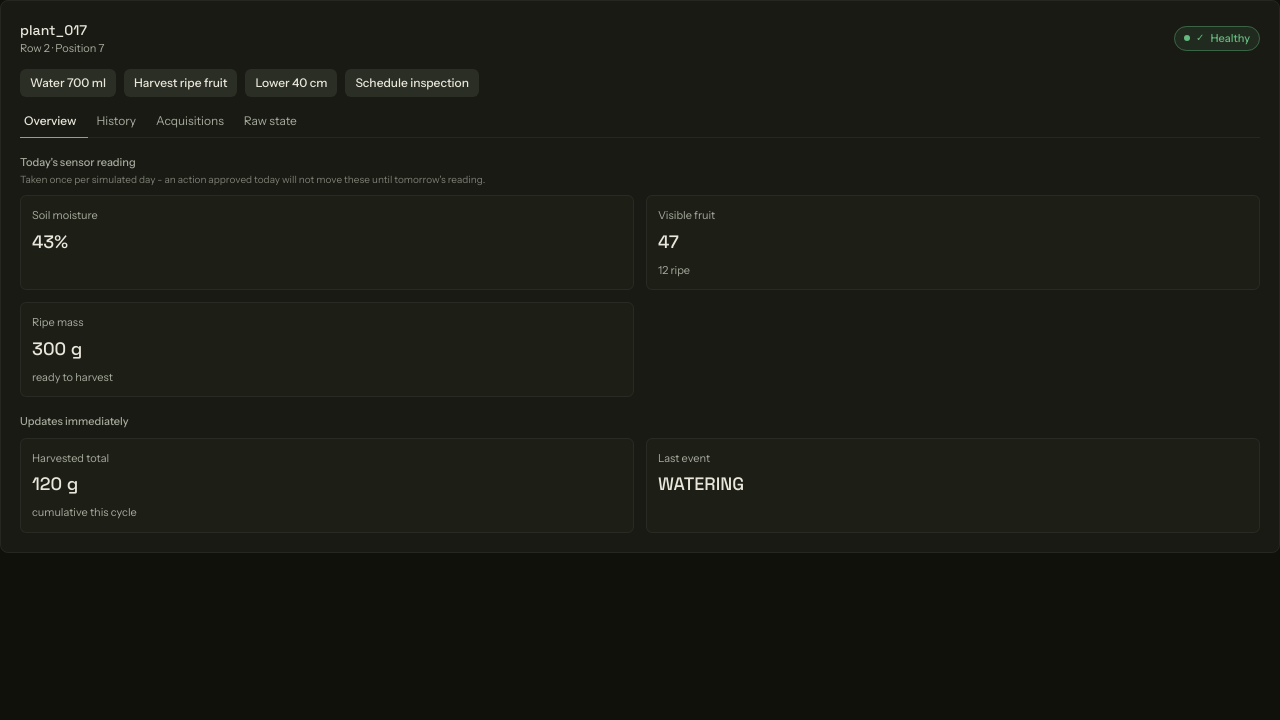
Scenario: PlantDetailPanel › shows history entries on the History tab
Click the button "History".
click(120, 125)  # box top-left (92, 112), bottom-right (148, 138)
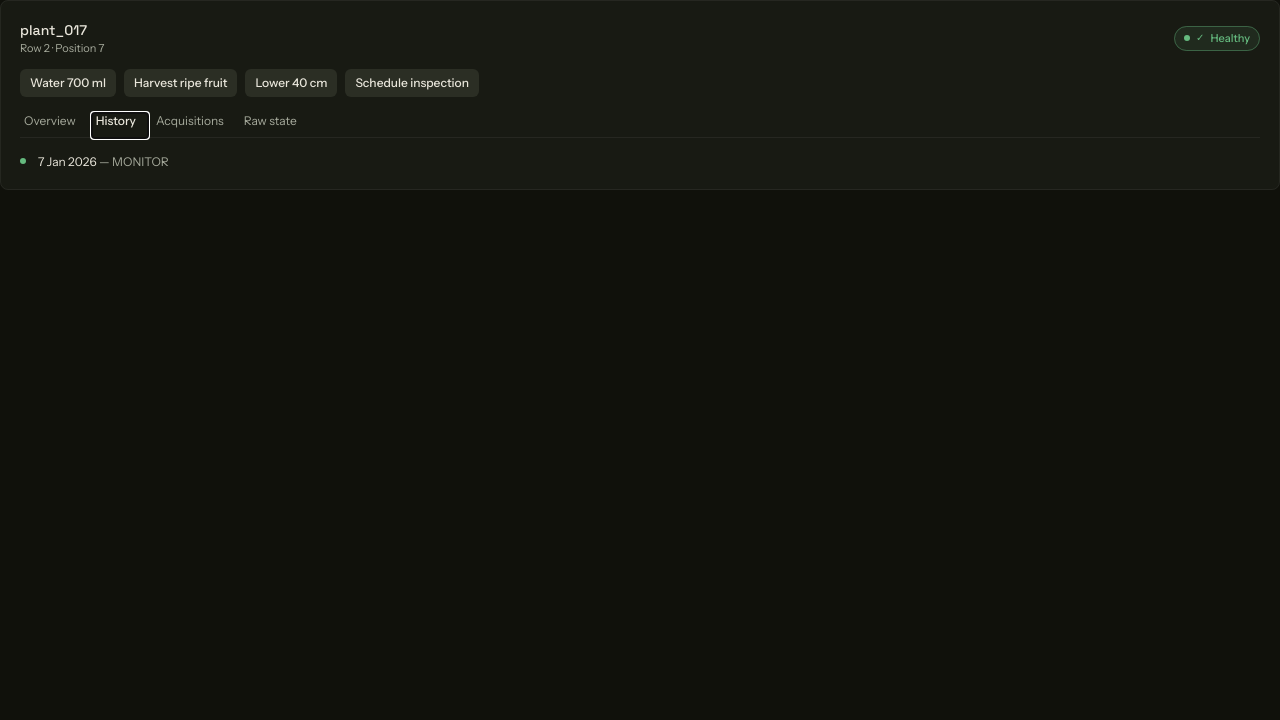
Now the text "7 Jan 2026" is shown, box top-left (38, 154), bottom-right (97, 168)
